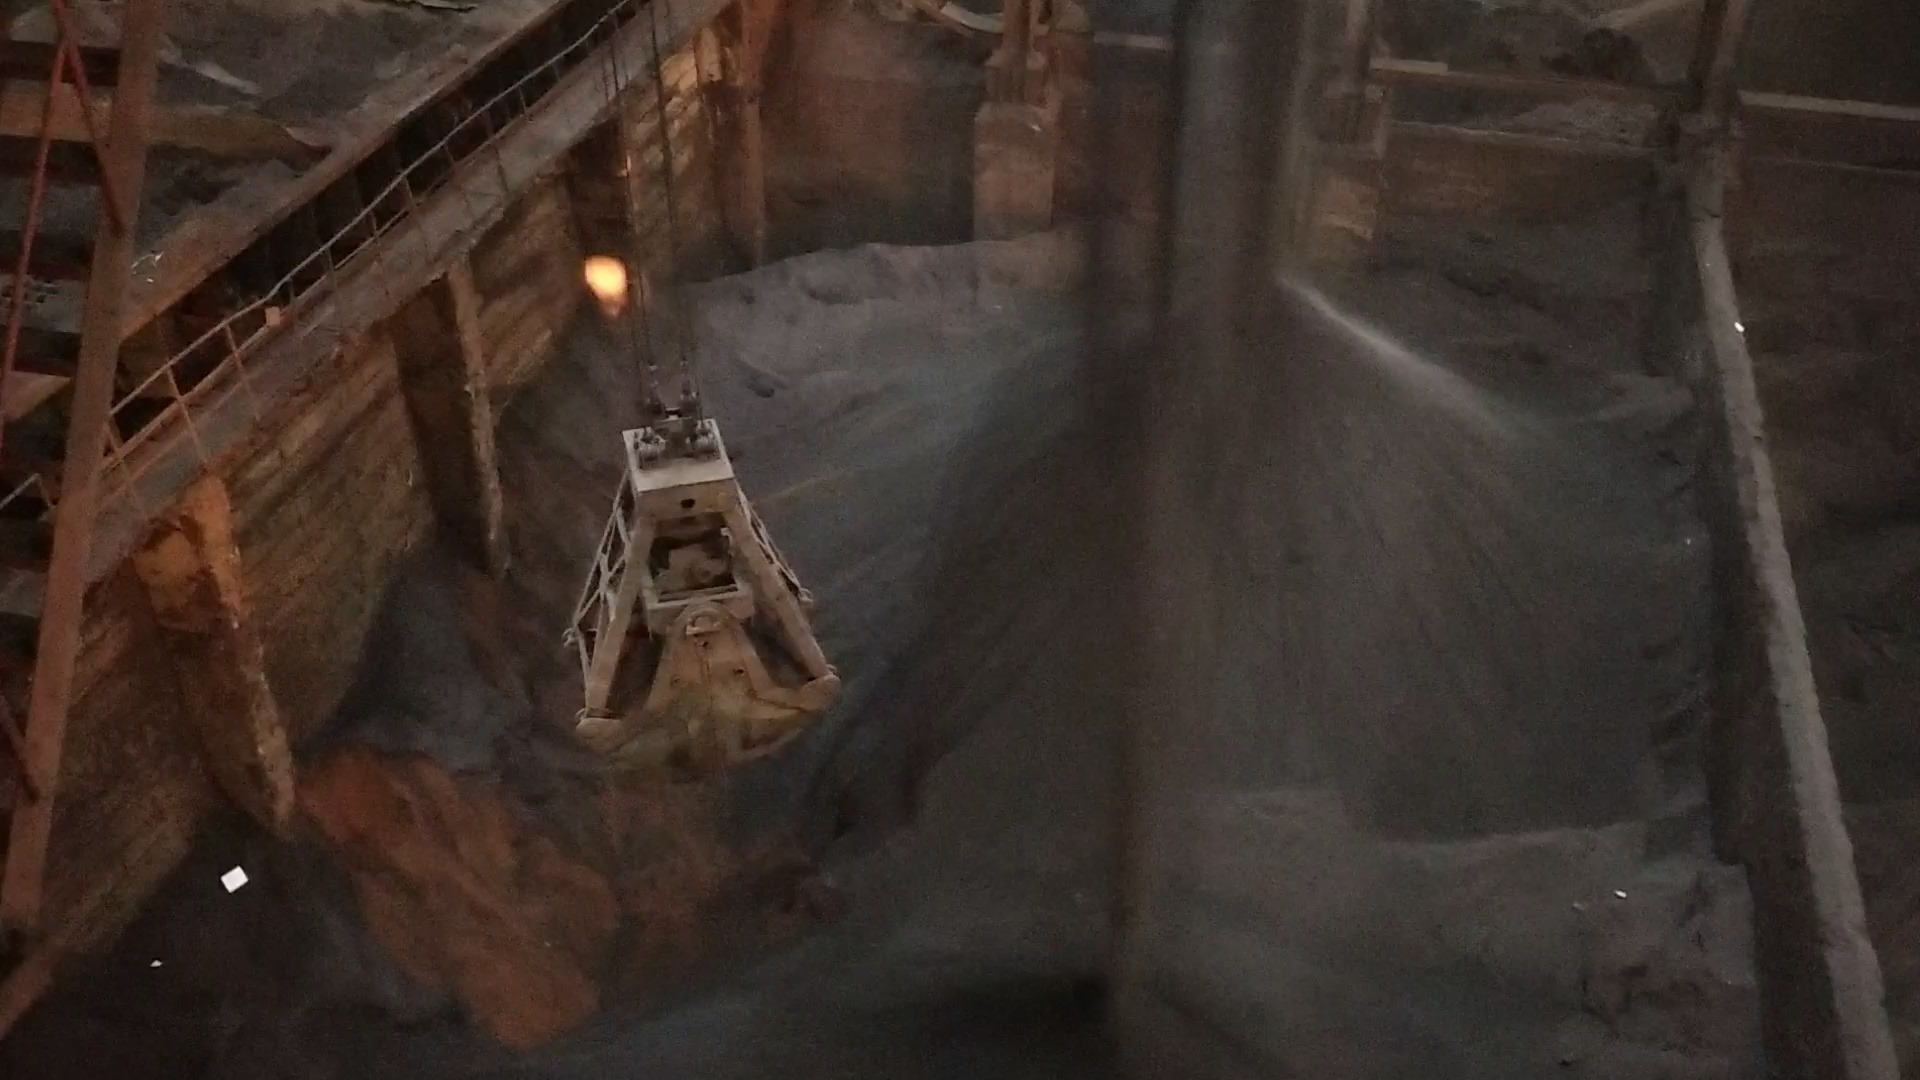grab: (553, 382, 841, 761)
